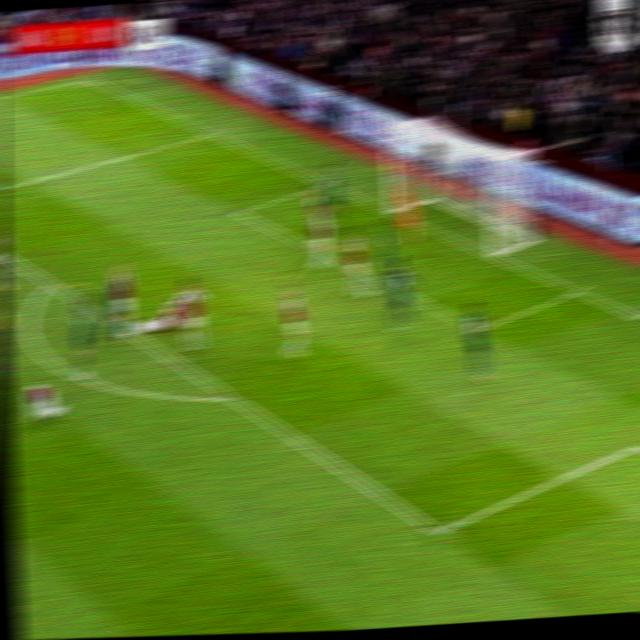bigarea_bottom_inner: (422, 509, 458, 553)
bigarea_top_outter: (200, 127, 219, 140)
bottom_arc_area_intersection: (218, 386, 243, 409)
corner: (75, 73, 96, 85)
smallarea_bottom_outter: (562, 277, 588, 303)
smallarea_top_inner: (229, 203, 250, 219)
smallarea_top_outter: (316, 178, 335, 193)
top_arc_area_intersection: (41, 276, 59, 291)
